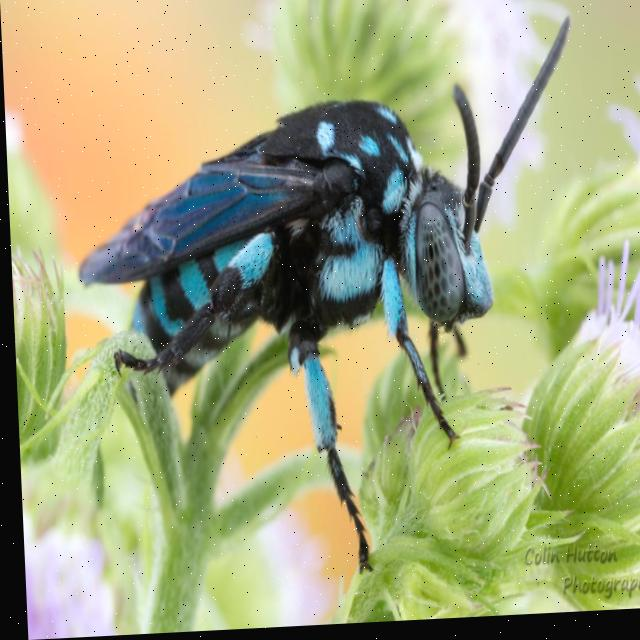Thyreus: (60, 8, 595, 597)
